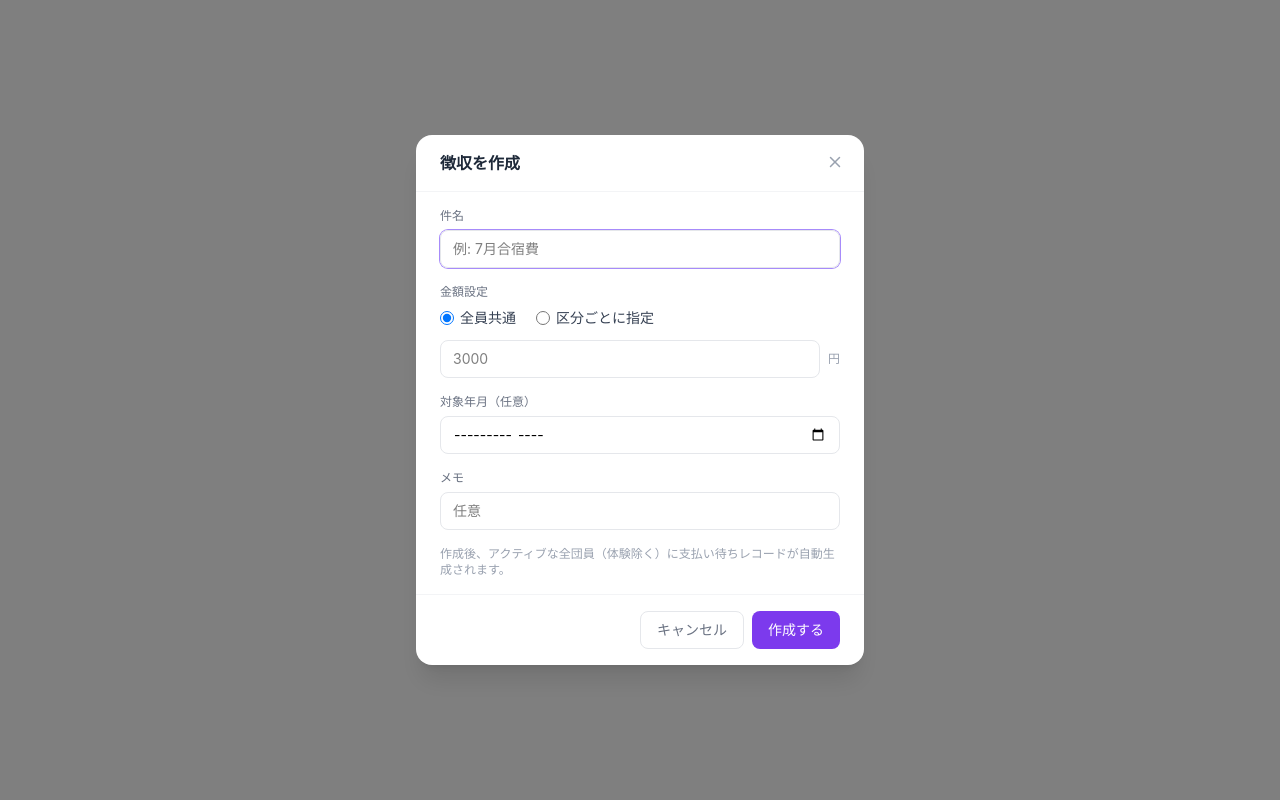
Test: CollectionModal（区分ごとに指定モード） › 切り替えるとメンバー区分ごとの金額欄と区分未設定欄が表示される
What coordinates should you click on to do the following:
click the radio button labelled "区分ごとに指定"
I would click on:
 (543, 318)
Its box is x1=536 y1=311 x2=550 y2=325.
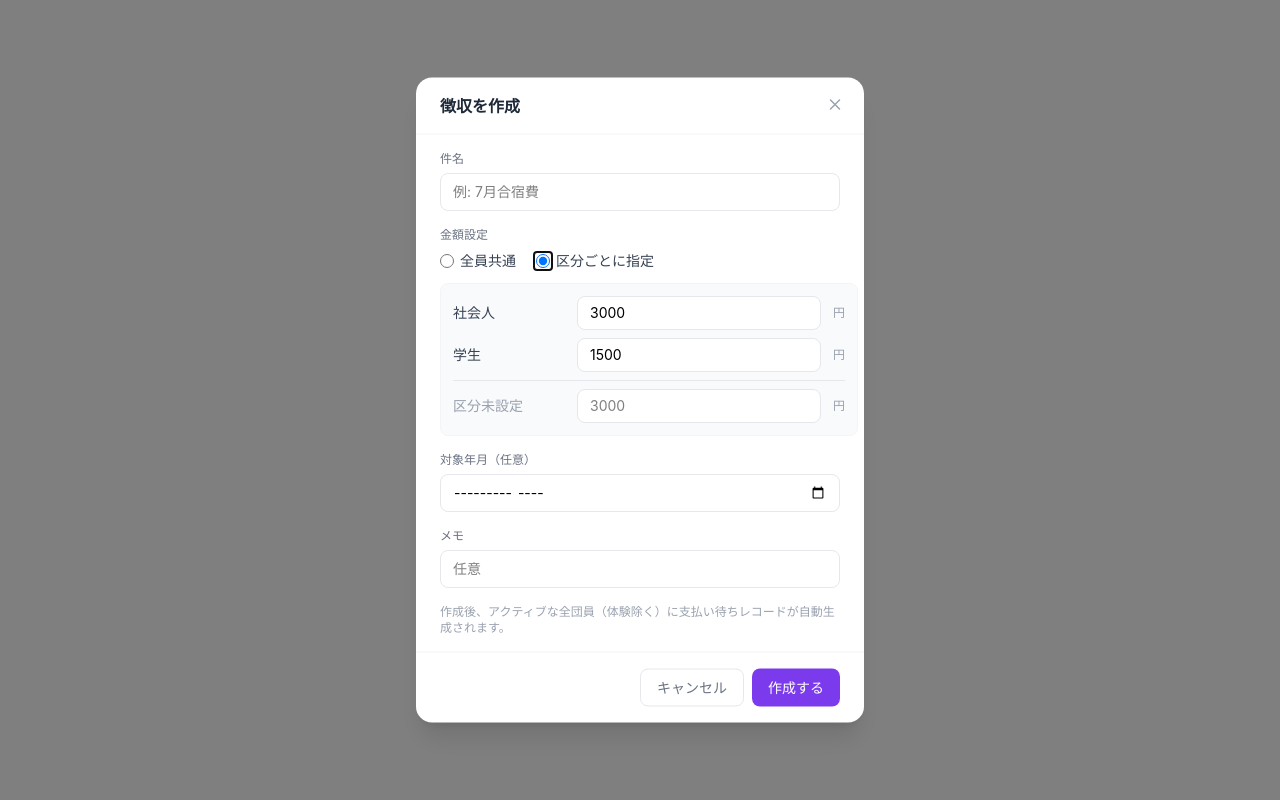
Expected: the text "社会人" is shown, x1=453 y1=304 x2=495 y2=320
Expected: the text "学生" is shown, x1=453 y1=346 x2=481 y2=362
Expected: the text "区分未設定" is shown, x1=453 y1=396 x2=523 y2=414
